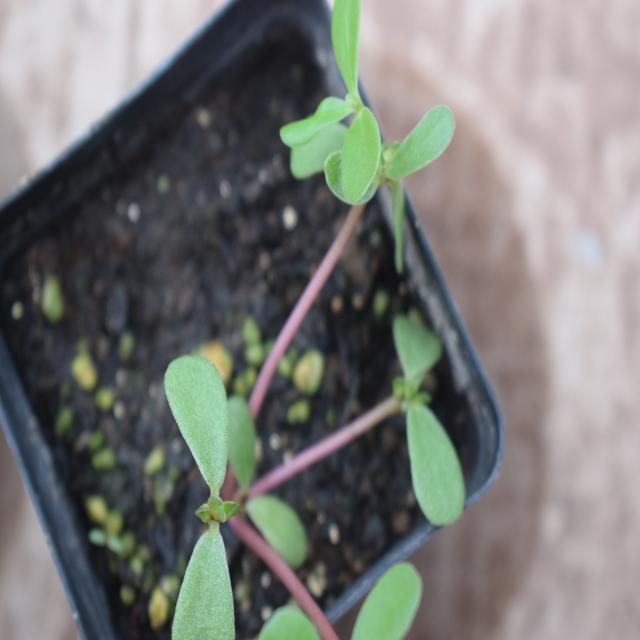purslane: (146, 33, 483, 588)
